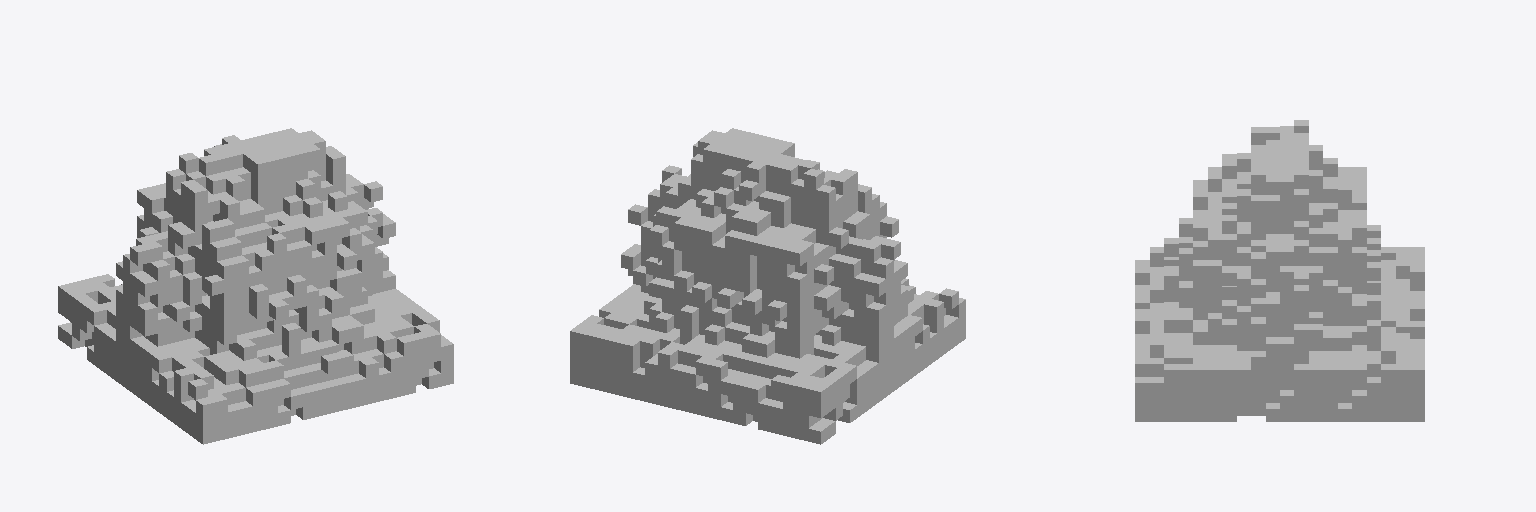
The model's file is IronOre1.obj.
3 renders of one model, left to right at view 1: azimuth 30°, elevation 25°; view 2: azimuth 150°, elevation 25°; view 3: azimuth 270°, elevation 25°, orthographic.
Visible parts, largest first — view 1: IronOre1; view 2: IronOre1; view 3: IronOre1.
Part boxes in pixels (left/top/right/bottom): IronOre1: left=58, top=128, right=453, bottom=444; IronOre1: left=570, top=128, right=965, bottom=444; IronOre1: left=1135, top=120, right=1424, bottom=421.
Size of the model in its own units: 5 by 4 by 5.